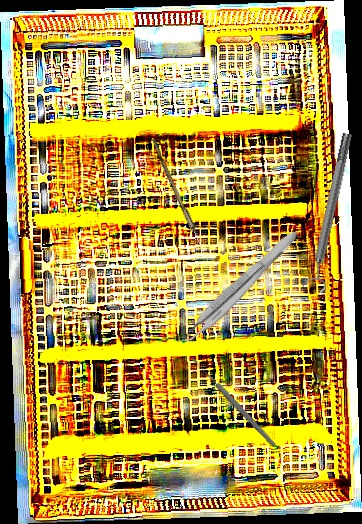Fixation Ring: (299, 131, 362, 294)
Surgical Spoon: (189, 354, 278, 449), (148, 138, 212, 262)
Tissue Forceps: (173, 221, 301, 354)
